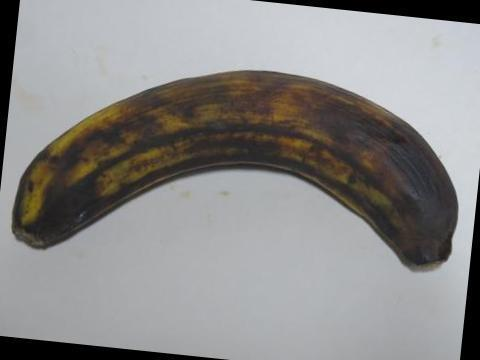overripe: (4, 62, 458, 275)
